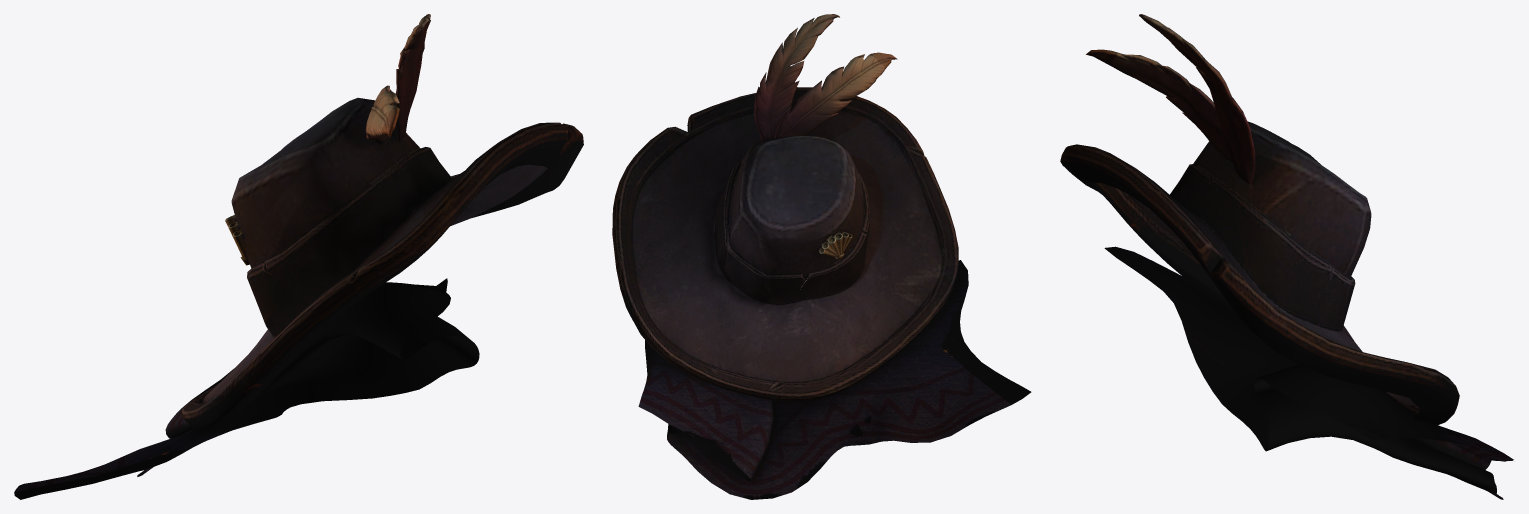
The model's file is _hat.fbx.
The picture shows the model from 3 angles, left to right: view 1: azimuth 30°, elevation 25°; view 2: azimuth 150°, elevation 25°; view 3: azimuth 270°, elevation 25°; orthographic projection. The views are drawn at different scales.
Parts seen in each view (by area): view 1: models/ui/muerta_ofrenda/muerta_ofrenda_hat.vmdl_c.ofrenda_h; view 2: models/ui/muerta_ofrenda/muerta_ofrenda_hat.vmdl_c.ofrenda_h; view 3: models/ui/muerta_ofrenda/muerta_ofrenda_hat.vmdl_c.ofrenda_h.
Boxes of the visible parts, left/top/right/bottom form: models/ui/muerta_ofrenda/muerta_ofrenda_hat.vmdl_c.ofrenda_h: left=14, top=14, right=583, bottom=499; models/ui/muerta_ofrenda/muerta_ofrenda_hat.vmdl_c.ofrenda_h: left=612, top=14, right=1031, bottom=499; models/ui/muerta_ofrenda/muerta_ofrenda_hat.vmdl_c.ofrenda_h: left=1060, top=14, right=1513, bottom=499.
Size of the model in its own units: 4.8 by 4.43 by 3.58.
